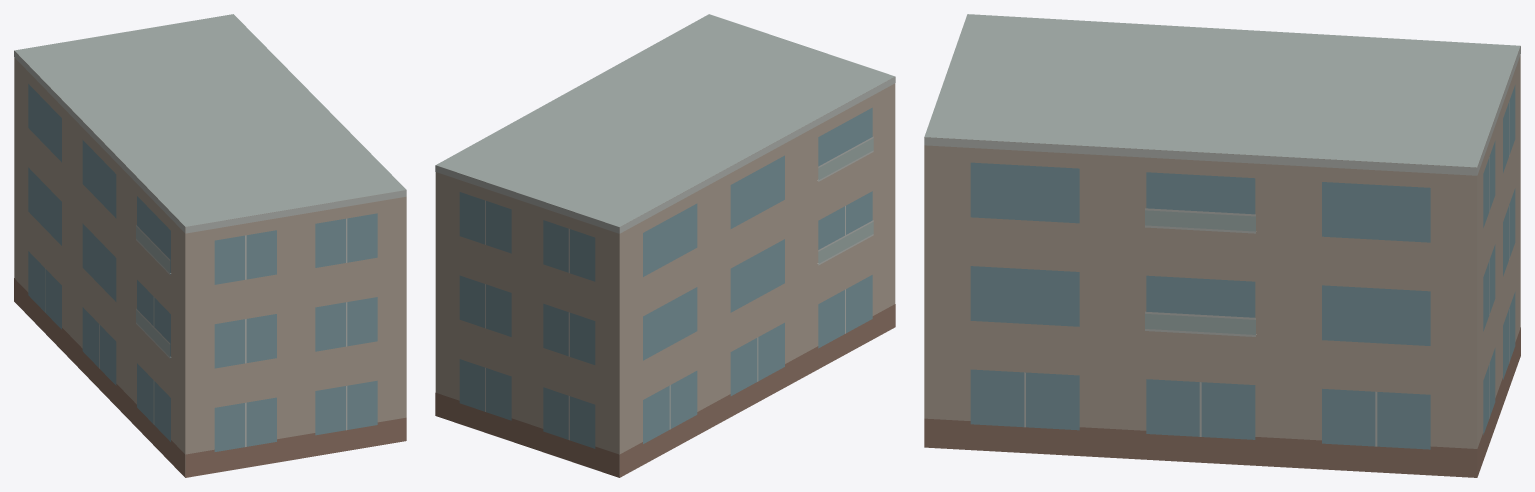
Rendered from survey-upis-32893518.glb.
The picture shows the model from 3 angles, left to right: view 1: azimuth 30°, elevation 25°; view 2: azimuth 150°, elevation 25°; view 3: azimuth 270°, elevation 25°; orthographic projection. The views are drawn at different scales.
Visible parts, largest first — view 1: survey-upis-32893518.tmp; view 2: survey-upis-32893518.tmp; view 3: survey-upis-32893518.tmp.
Part boxes in pixels (bbox=[...]): survey-upis-32893518.tmp: bbox=[14, 14, 406, 477]; survey-upis-32893518.tmp: bbox=[435, 14, 895, 477]; survey-upis-32893518.tmp: bbox=[924, 14, 1520, 477].
Size of the model in its own units: 9.71 by 9.15 by 15.95.
